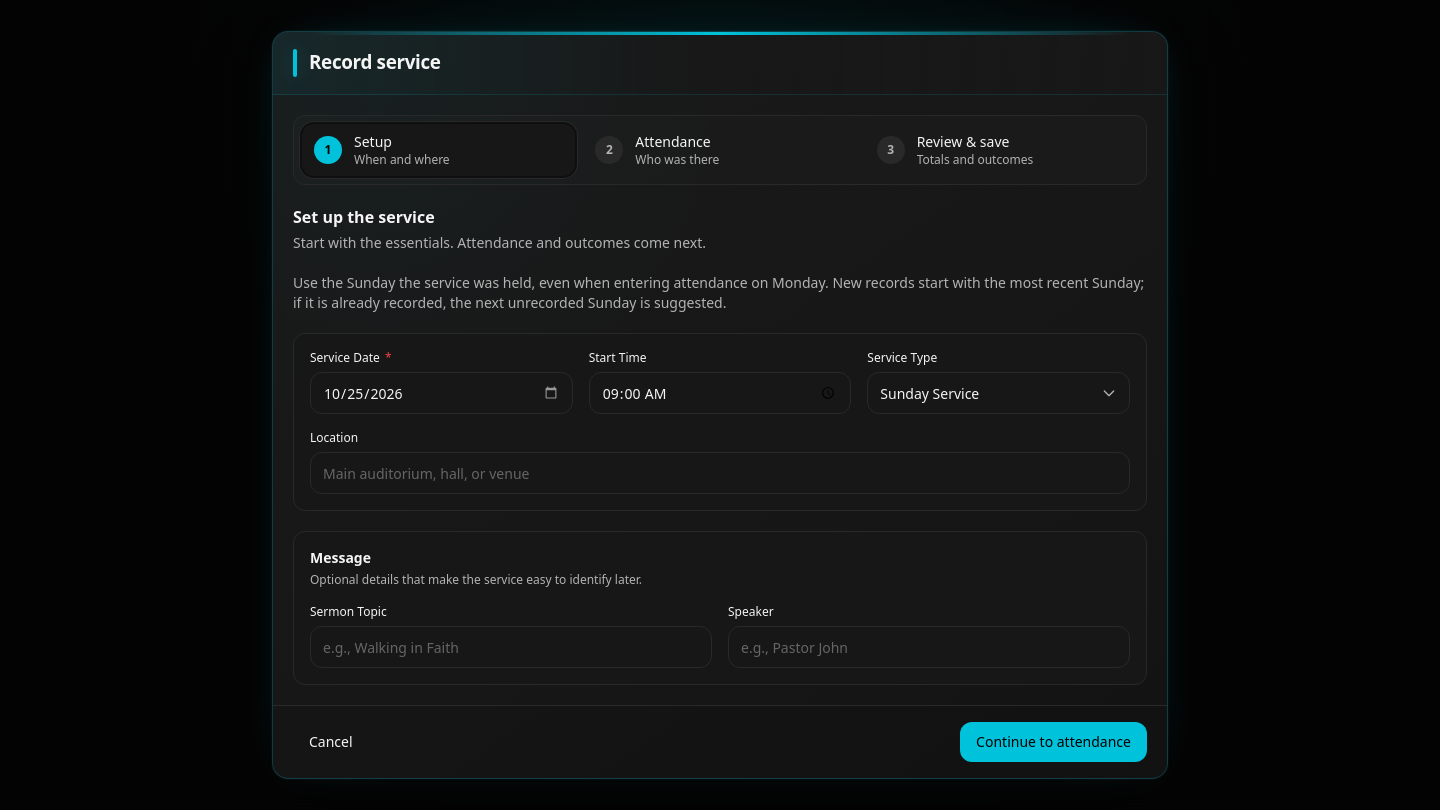
shows tentative guests for the chosen Sunday without preselecting them
Click the button "2 Attendance Who was there": (720, 150) left=583, top=124, right=857, bottom=176
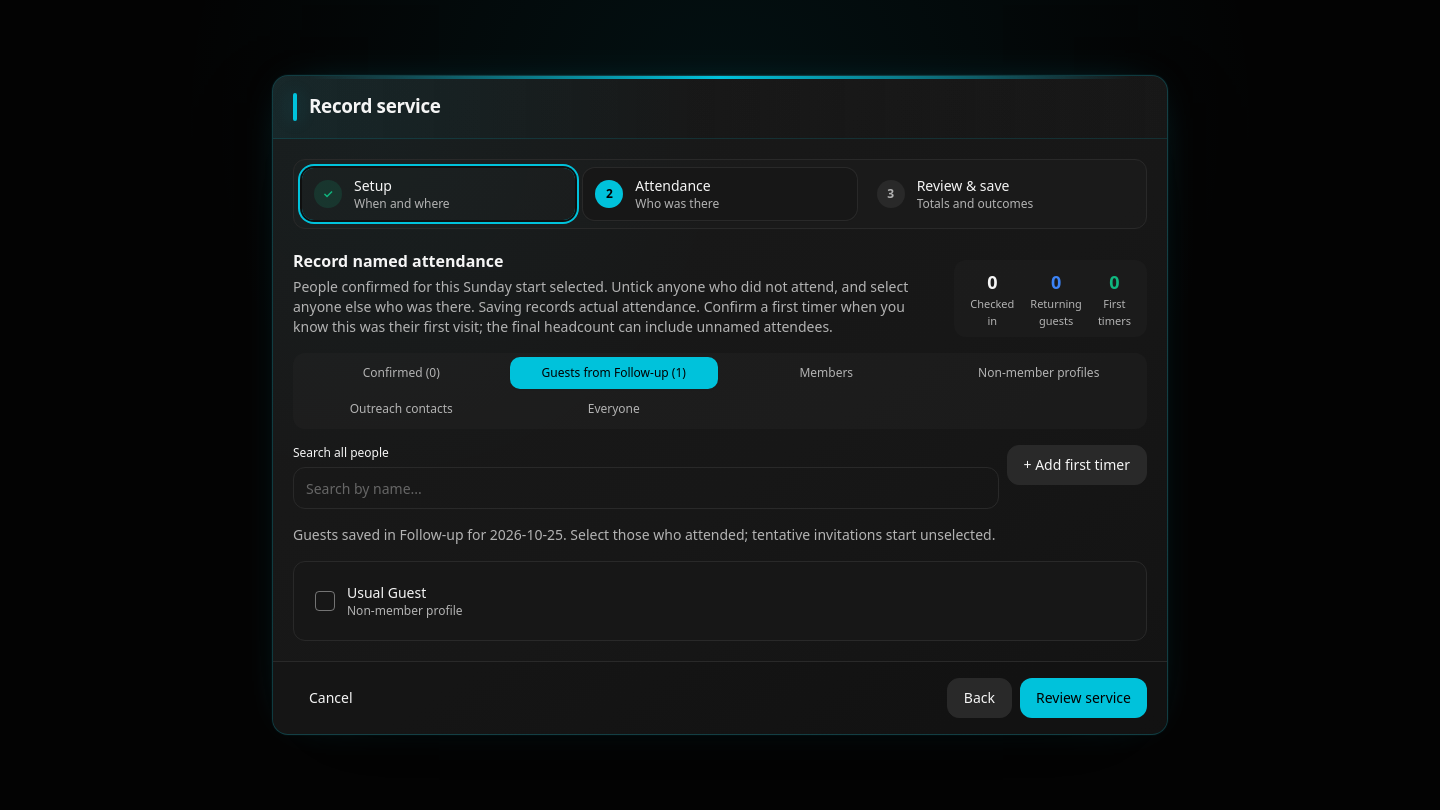
Expected: the button "Review service" is enabled, left=1020, top=678, right=1147, bottom=718
Expected: the button "Guests from Follow-up (1)" is shown, left=510, top=357, right=718, bottom=389
